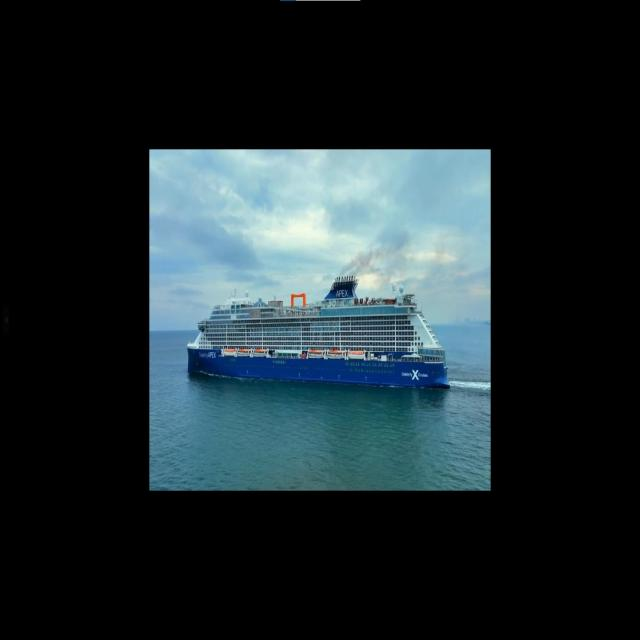ship: (187, 276, 447, 387)
